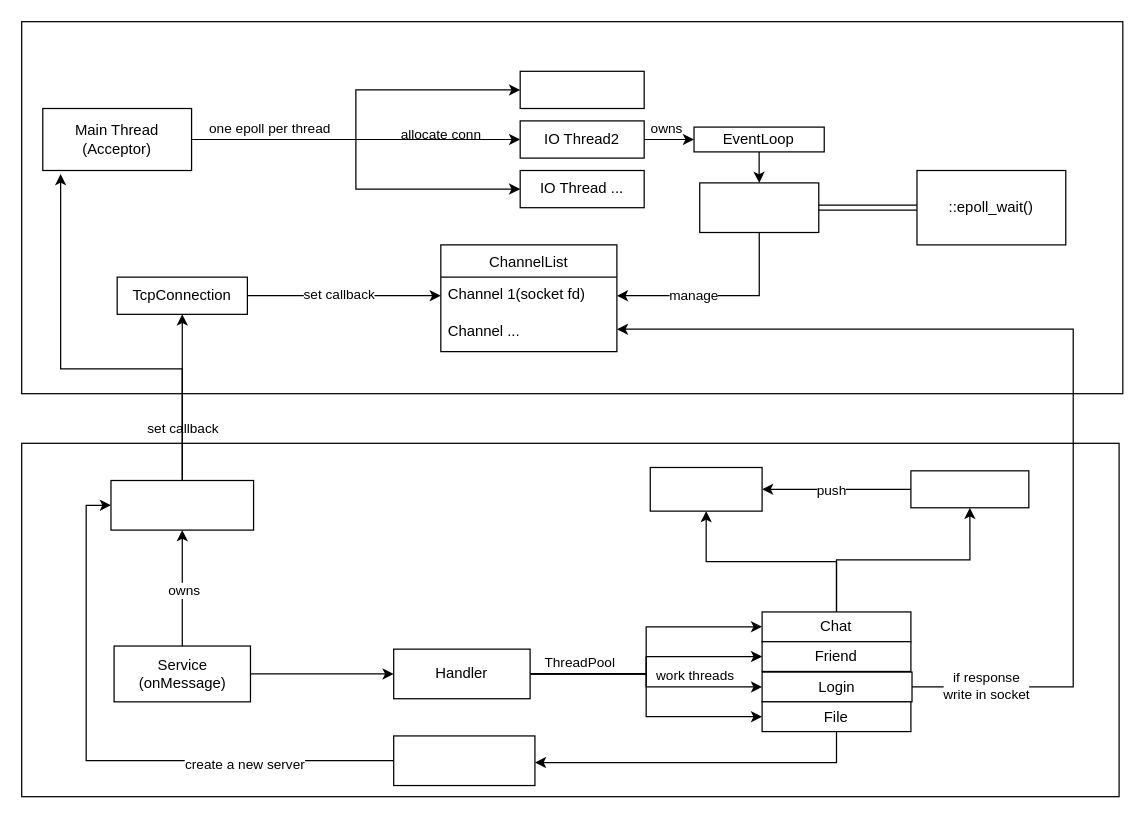
The diagram is 1145 pixels wide and 818 high, and some of its shapes have lost their labels. Here are the shapes that lost their labels. From the top down, the centre of each, then its label:
At (x=581, y=89): "IO Thread1".
At (x=758, y=207): "Epoller".
At (x=182, y=504): "TcpServer".
At (x=705, y=488): "MySQL".
At (x=969, y=489): "Redis".
At (x=463, y=760): "FileServer".
